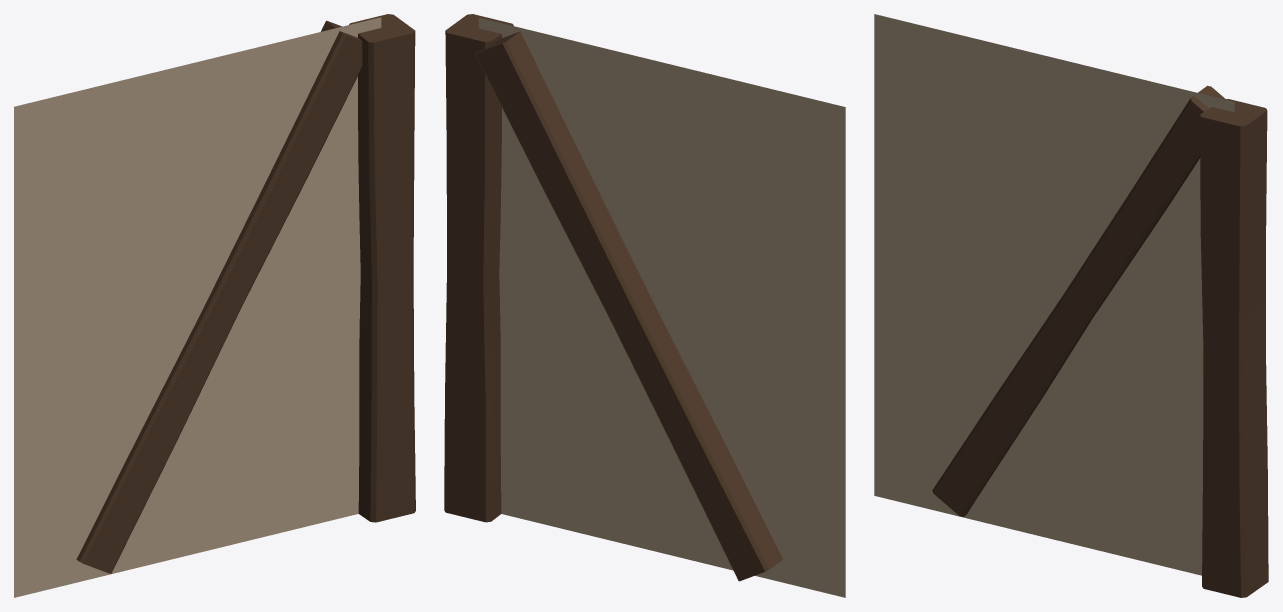
Rendered from SideWall1.fbx.
3 views of the same model, side by side, from view 1: azimuth 30°, elevation 25°; view 2: azimuth 150°, elevation 25°; view 3: azimuth 330°, elevation 25° (orthographic).
Visible parts, largest first — view 1: Cube.009; view 2: Cube.009; view 3: Cube.009.
Part boxes in pixels (x1=…): Cube.009: x1=14, y1=14, x2=415, y2=597; Cube.009: x1=444, y1=14, x2=845, y2=597; Cube.009: x1=874, y1=14, x2=1268, y2=597.
Bounding box in the file's own units: 2.13 × 2.56 × 0.2696.
